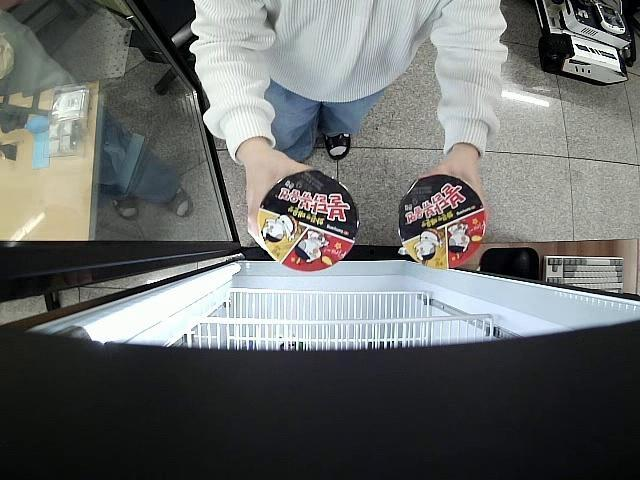07_buldak_L: (256, 168, 360, 268), (396, 176, 484, 268)
